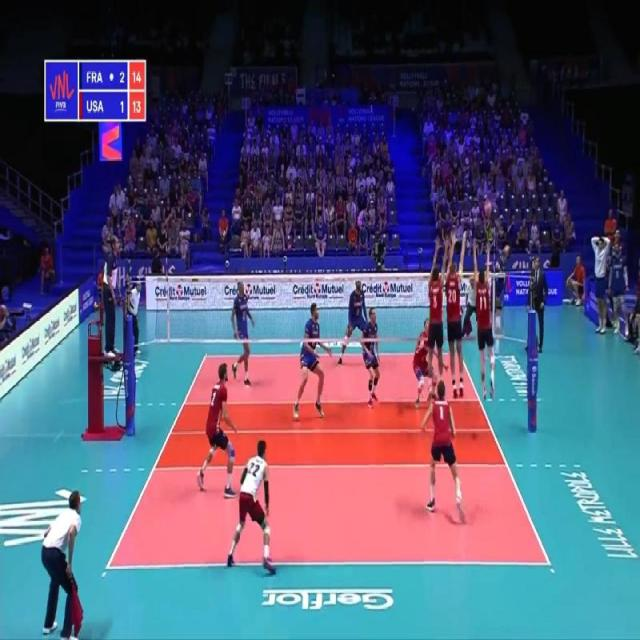volleyball: (484, 200, 492, 214)
